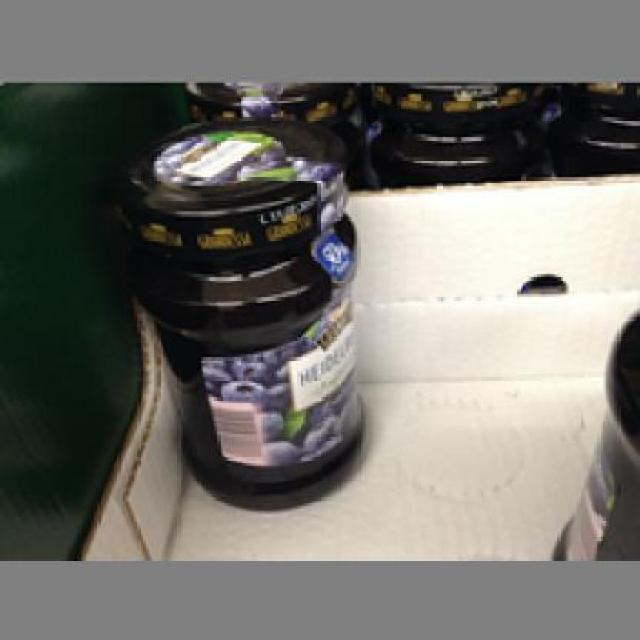Jam: (113, 114, 370, 506)
